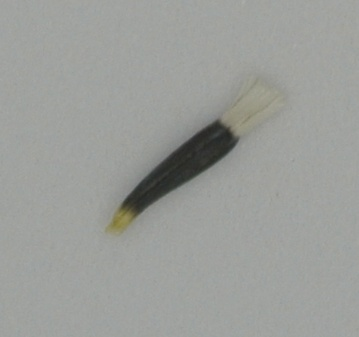เมล็ดดีติดกัน: (102, 73, 281, 238)
